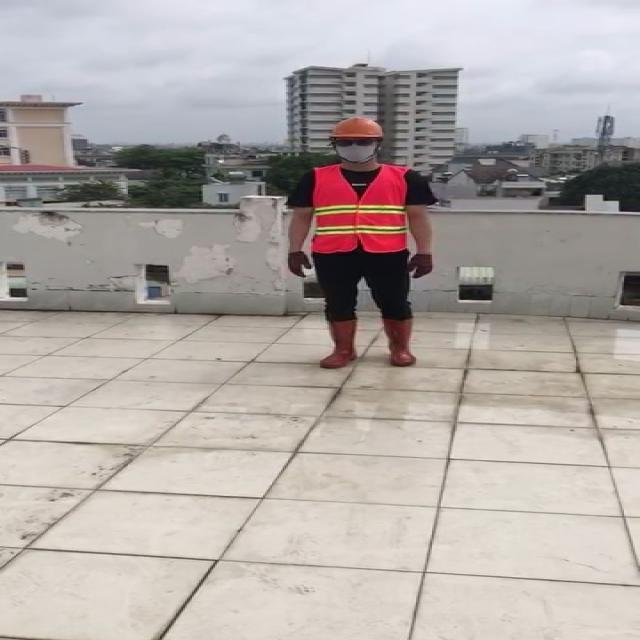gloves: (404, 252, 436, 284), (280, 249, 311, 282)
helmet: (324, 114, 386, 148)
safety_vest: (308, 162, 411, 256)
